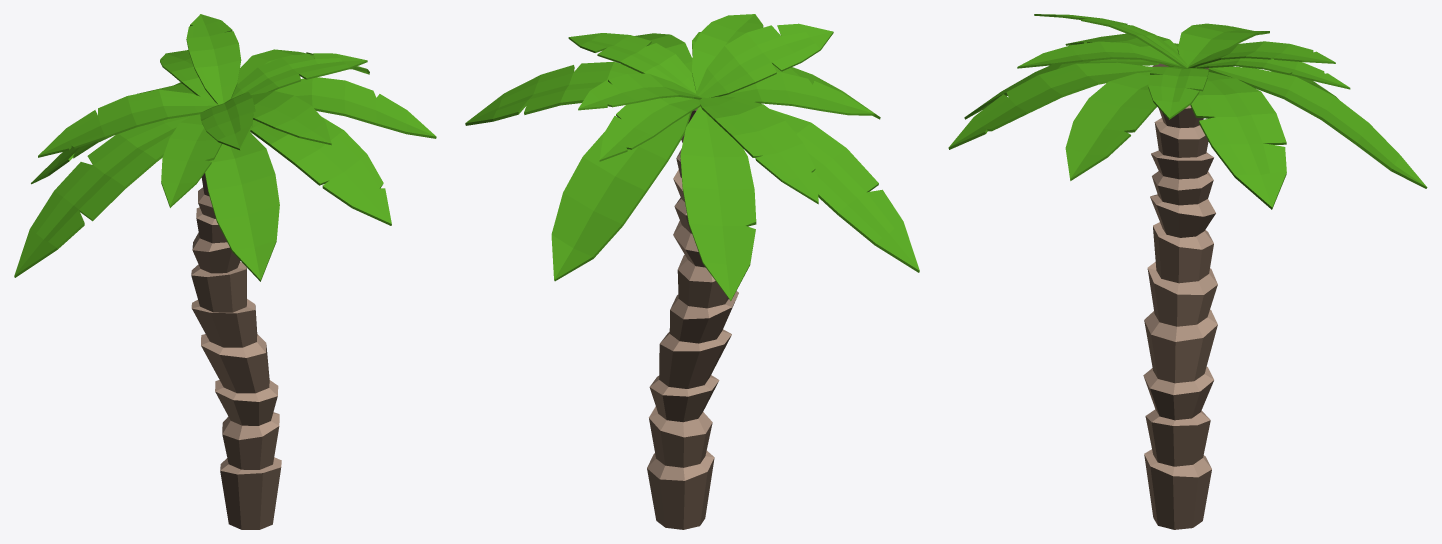
Rendered from Isl_5_Palm_2.fbx.
3 views of the same model, side by side, from view 1: azimuth 30°, elevation 25°; view 2: azimuth 150°, elevation 25°; view 3: azimuth 270°, elevation 25° (orthographic). The views are drawn at different scales.
Visible parts, largest first — view 1: Isl_5_Palm_2; view 2: Isl_5_Palm_2; view 3: Isl_5_Palm_2.
Part boxes in pixels (left/top/right/bottom): Isl_5_Palm_2: left=14, top=14, right=436, bottom=529; Isl_5_Palm_2: left=465, top=14, right=919, bottom=529; Isl_5_Palm_2: left=948, top=14, right=1427, bottom=529.
Size of the model in its own units: 560 by 554 by 611.
Materials: 1 (1 with a texture image).
